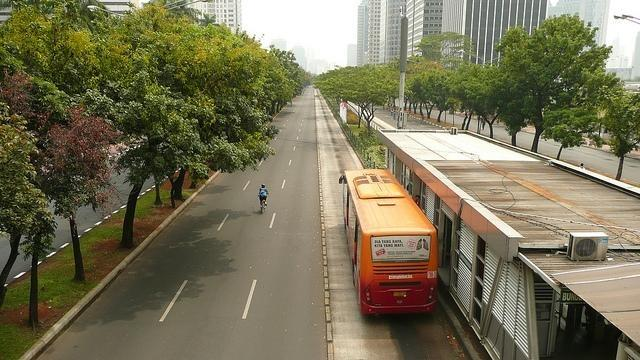bicycle: (260, 202, 266, 214)
bus: (342, 169, 438, 316)
